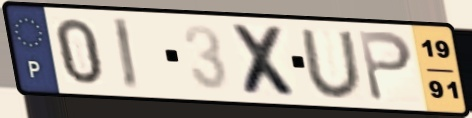0: (52, 17, 107, 87)
3: (182, 23, 231, 94)
I: (109, 15, 142, 93)
P: (355, 28, 416, 104)
U: (297, 28, 367, 101)
X: (227, 21, 304, 101)
